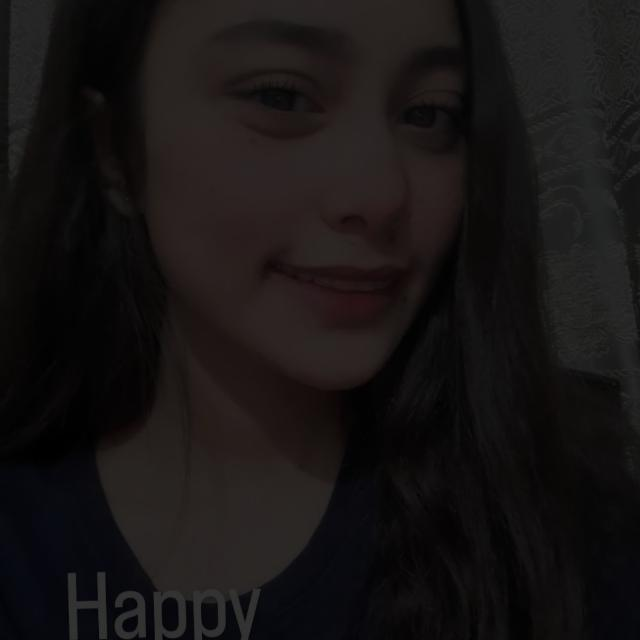happy: (112, 0, 506, 411)
